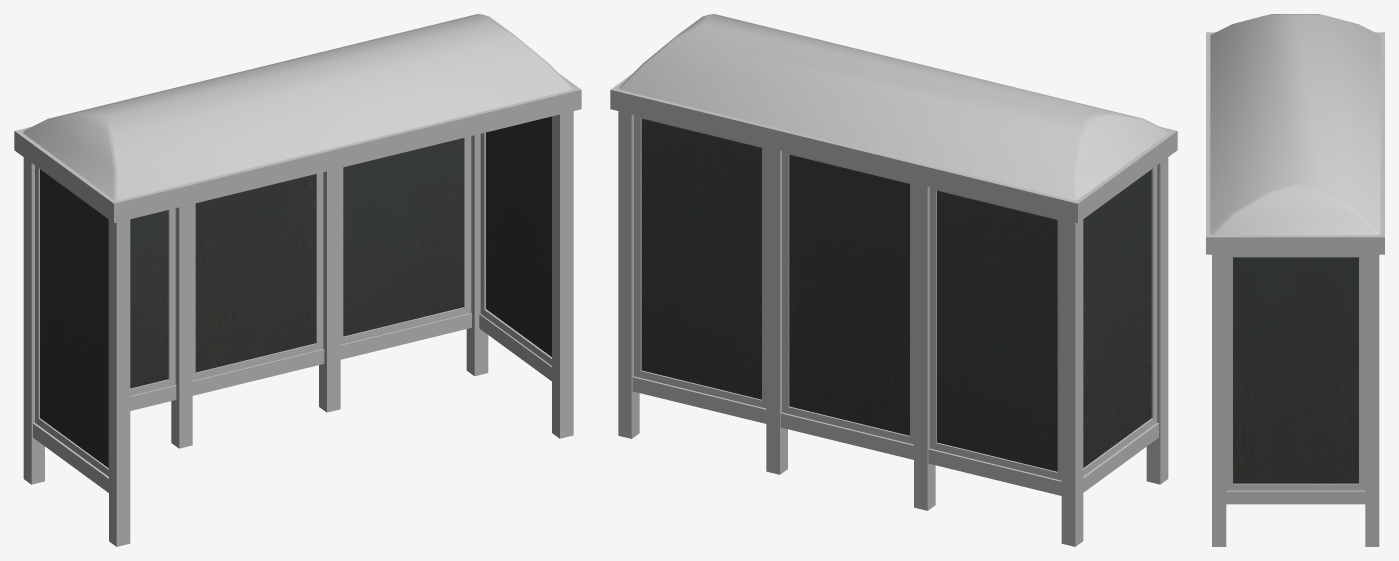
File: busstop.FBX
The picture shows the model from 3 angles, left to right: view 1: azimuth 30°, elevation 25°; view 2: azimuth 150°, elevation 25°; view 3: azimuth 270°, elevation 25°; orthographic projection. The views are drawn at different scales.
Visible parts, largest first — view 1: busstop; view 2: busstop; view 3: busstop.
Boxes of the visible parts, x1,y1,x2,y2 form: busstop: (14, 14, 581, 546); busstop: (610, 14, 1177, 546); busstop: (1206, 14, 1384, 546).
Size of the model in its own units: 3.48 by 2.75 by 1.28.
